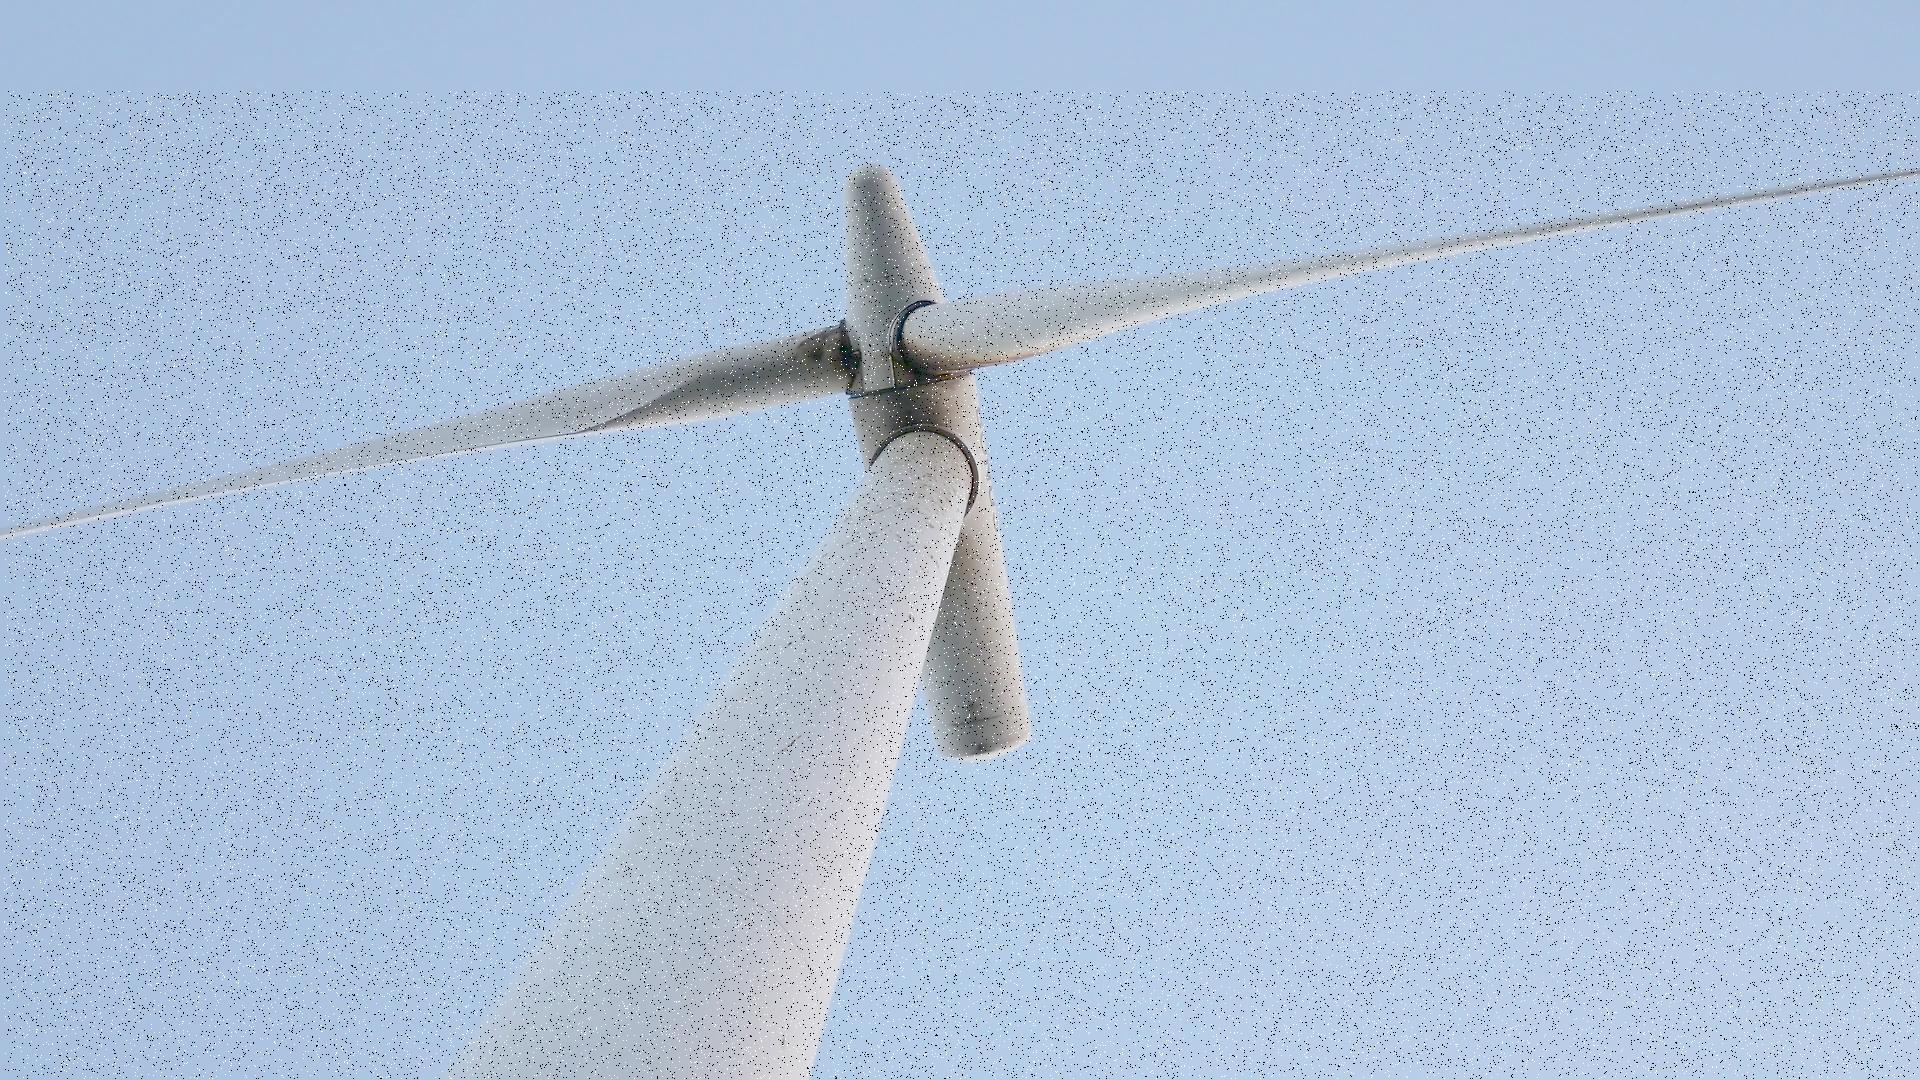turbine: (4, 91, 1920, 1080)
